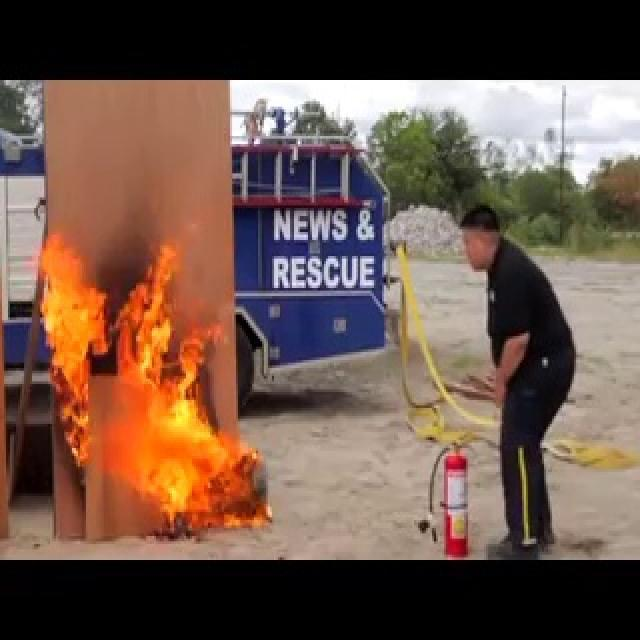fire: (27, 185, 271, 543)
